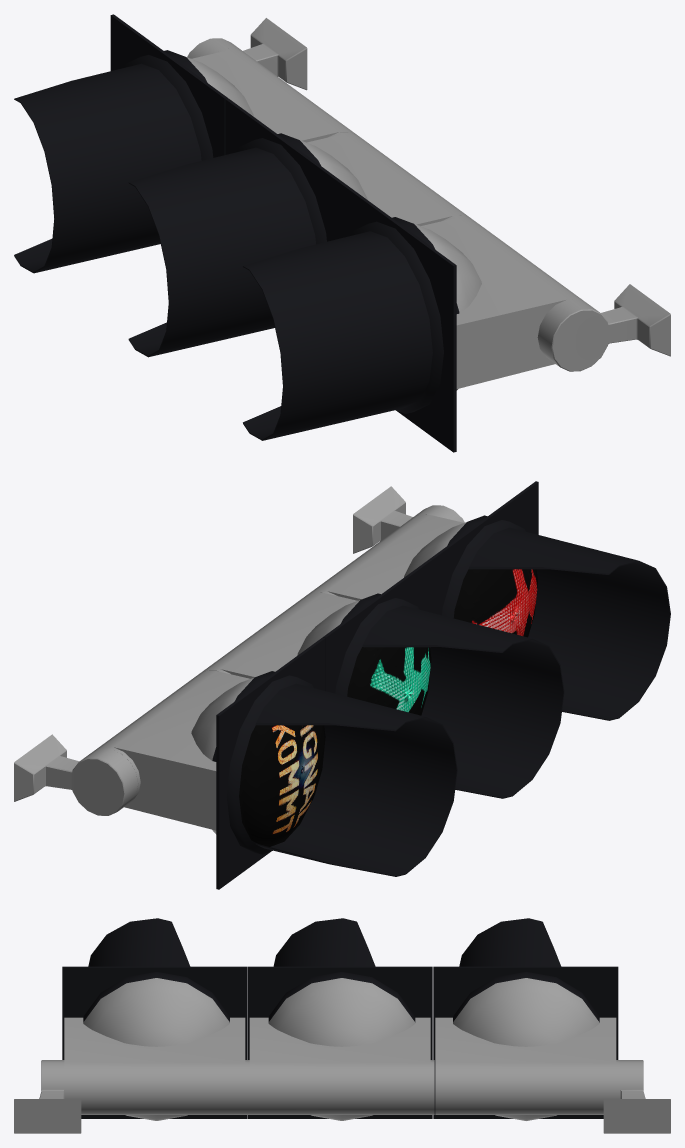
File: Fussgaengerampel_rot_gruen_Signal_Mast.obj
3 renders of one model, top to bottom at view 1: azimuth 30°, elevation 25°; view 2: azimuth 150°, elevation 25°; view 3: azimuth 270°, elevation 25°, orthographic. The views are drawn at different scales.
Visible parts, largest first — view 1: Sonnenblende.002_Cylinder.002, Sonnenblende_Cylinder.002, Sonnenblende.001_Cylinder.002, Cube.004_Cube.002, Masthalterung_Cylinder.004, Blende.002_Cube.004, Cube.005_Cube.002, Cube.003_Cube.002, BezierCurve.020, Blende_Cube.004, Blende.001_Cube.004, Masthalterung.001_Cylinder.004 (+2 smaller); view 2: Sonnenblende_Cylinder.002, Sonnenblende.001_Cylinder.002, Sonnenblende.002_Cylinder.002, BezierCurve.019, Cube.005_Cube.002, BezierCurve.018, BezierCurve.020, Masthalterung.001_Cylinder.004, Blende_Cube.004, Cube.003_Cube.002, Cube.004_Cube.002, Blende.001_Cube.004 (+2 smaller); view 3: Cube.003_Cube.002, Cube.005_Cube.002, Cube.004_Cube.002, BezierCurve.018, BezierCurve.019, BezierCurve.020, Blende_Cube.004, Blende.001_Cube.004, Blende.002_Cube.004, Sonnenblende.001_Cylinder.002, Sonnenblende.002_Cylinder.002, Sonnenblende_Cylinder.002 (+2 smaller).
Part boxes in pixels (left/top/right/bottom): Sonnenblende.002_Cylinder.002: left=243, top=231, right=432, bottom=440; Sonnenblende_Cylinder.002: left=14, top=63, right=201, bottom=273; Sonnenblende.001_Cylinder.002: left=128, top=147, right=315, bottom=357; Cube.004_Cube.002: left=421, top=215, right=586, bottom=388; Masthalterung_Cylinder.004: left=537, top=284, right=670, bottom=371; Blende.002_Cube.004: left=339, top=182, right=456, bottom=452; Cube.005_Cube.002: left=191, top=48, right=357, bottom=142; Cube.003_Cube.002: left=307, top=132, right=472, bottom=226; BezierCurve.020: left=350, top=217, right=481, bottom=413; Blende_Cube.004: left=110, top=14, right=227, bottom=157; Blende.001_Cube.004: left=225, top=98, right=342, bottom=241; Masthalterung.001_Cylinder.004: left=187, top=18, right=307, bottom=90; Sonnenblende_Cylinder.002: left=255, top=683, right=457, bottom=876; Sonnenblende.001_Cylinder.002: left=362, top=605, right=564, bottom=798; Sonnenblende.002_Cylinder.002: left=468, top=527, right=670, bottom=720; BezierCurve.019: left=191, top=671, right=325, bottom=854; Cube.005_Cube.002: left=93, top=670, right=249, bottom=830; BezierCurve.018: left=297, top=593, right=431, bottom=715; BezierCurve.020: left=404, top=515, right=537, bottom=637; Masthalterung.001_Cylinder.004: left=14, top=734, right=138, bottom=815; Blende_Cube.004: left=216, top=637, right=325, bottom=889; Cube.003_Cube.002: left=199, top=592, right=357, bottom=678; Cube.004_Cube.002: left=305, top=514, right=463, bottom=600; Blende.001_Cube.004: left=323, top=559, right=432, bottom=693; Cube.003_Cube.002: left=249, top=1017, right=434, bottom=1114; Cube.005_Cube.002: left=435, top=1017, right=620, bottom=1114; Cube.004_Cube.002: left=64, top=1017, right=249, bottom=1114; BezierCurve.018: left=268, top=972, right=415, bottom=1120; BezierCurve.019: left=453, top=972, right=599, bottom=1120; BezierCurve.020: left=83, top=972, right=229, bottom=1120; Blende_Cube.004: left=433, top=966, right=618, bottom=1118; Blende.001_Cube.004: left=247, top=966, right=432, bottom=1118; Blende.002_Cube.004: left=62, top=966, right=247, bottom=1118; Sonnenblende.001_Cylinder.002: left=273, top=918, right=375, bottom=966; Sonnenblende.002_Cylinder.002: left=88, top=918, right=190, bottom=966; Sonnenblende_Cylinder.002: left=459, top=918, right=561, bottom=966.
Size of the model in its own units: 0.4823 by 0.2502 by 0.9853.
